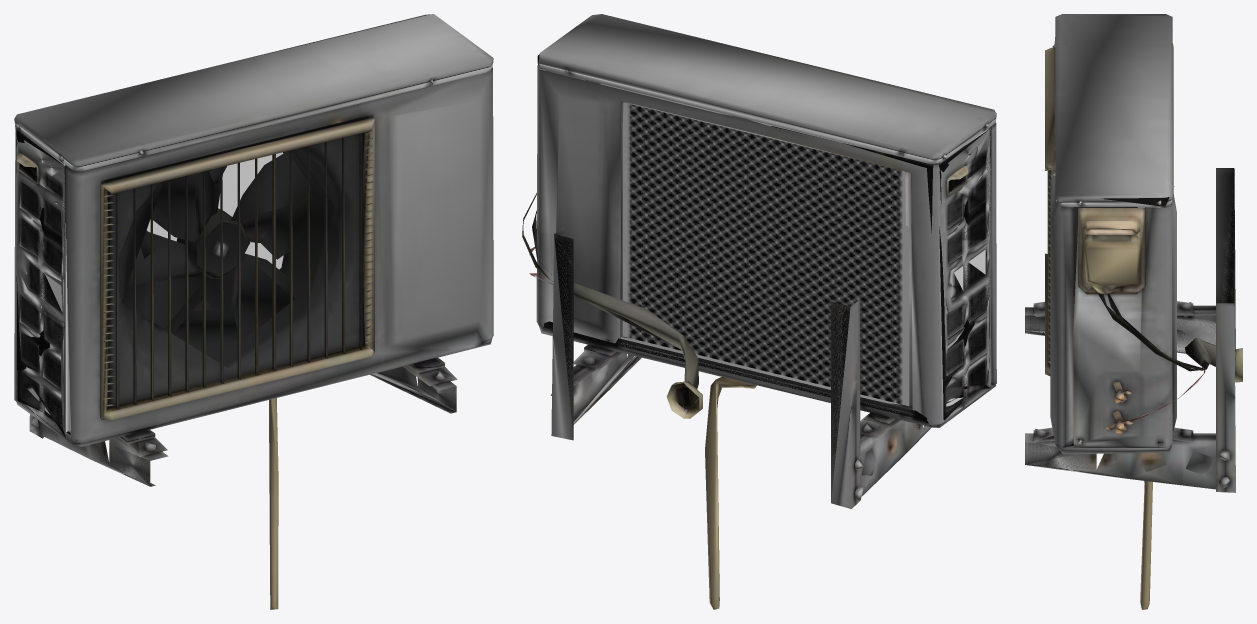
File: exterior_aircon_unit.glb
3 views of the same model, side by side, from view 1: azimuth 30°, elevation 25°; view 2: azimuth 150°, elevation 25°; view 3: azimuth 270°, elevation 25° (orthographic). The views are drawn at different scales.
Visible parts, largest first — view 1: exterior_aircon_unit, exterior_aircon_unit_lo; view 2: exterior_aircon_unit, exterior_aircon_unit_lo; view 3: exterior_aircon_unit, exterior_aircon_unit_lo.
Boxes of the visible parts, box(x1,y1,x2,y2) form: exterior_aircon_unit: box(14, 14, 493, 609); exterior_aircon_unit_lo: box(15, 129, 456, 486); exterior_aircon_unit: box(522, 14, 996, 609); exterior_aircon_unit_lo: box(548, 70, 990, 475); exterior_aircon_unit: box(1025, 14, 1242, 609); exterior_aircon_unit_lo: box(1025, 101, 1234, 476).
Size of the model in its own units: 0.7961 by 0.9279 by 0.3742.
4 materials, 4 textured.
